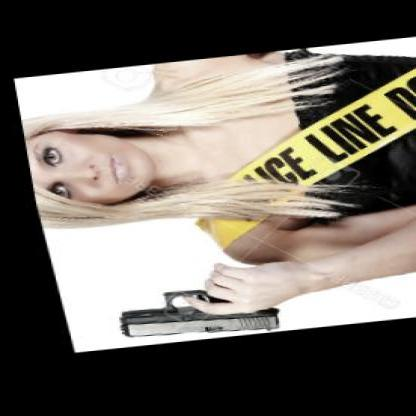pistol: (91, 275, 266, 347)
